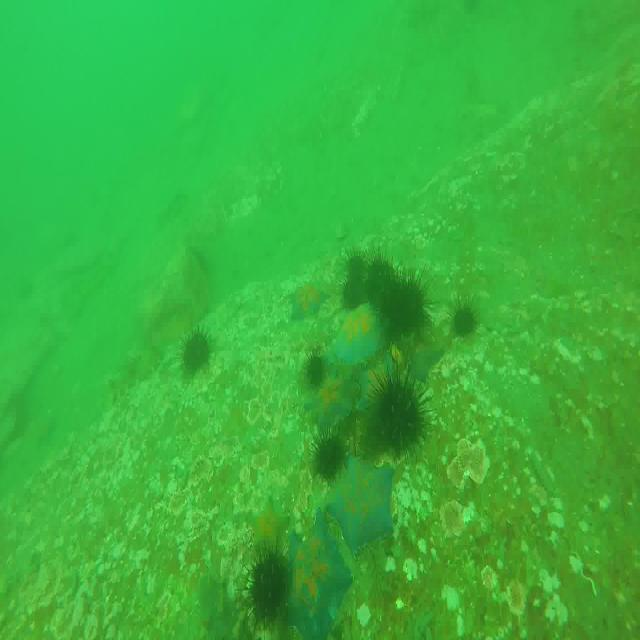echinus: (370, 375, 430, 459), (249, 542, 293, 628), (385, 275, 425, 341), (365, 255, 403, 307), (302, 344, 333, 390), (314, 440, 348, 479), (182, 335, 214, 370), (339, 276, 368, 312), (344, 248, 372, 285), (451, 303, 480, 335)
starfish: (288, 510, 350, 638), (326, 458, 396, 538), (331, 306, 390, 376), (355, 354, 405, 421), (309, 374, 356, 437), (245, 503, 292, 554), (286, 280, 332, 323), (401, 345, 445, 386)
